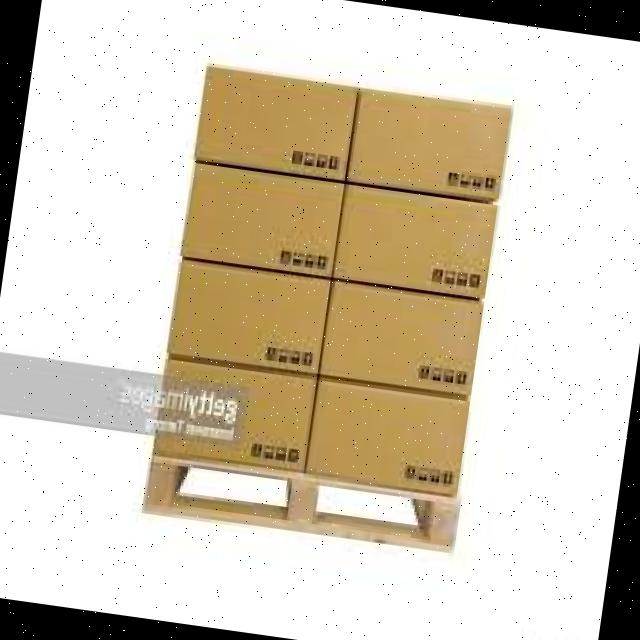Wooden-Pallets: (133, 440, 463, 566)
